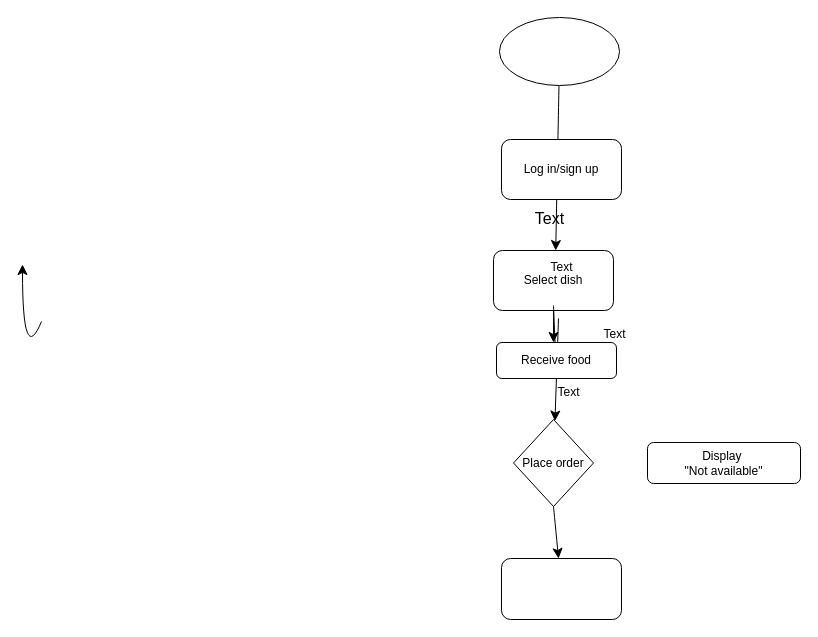
Some shapes in this 818 by 637 pixel diagram are drawn without their labels. The centre of each missing label's shape, as x and y in pixels:
"Open the app" belongs at point (559, 51).
"Payment" belongs at point (561, 589).
